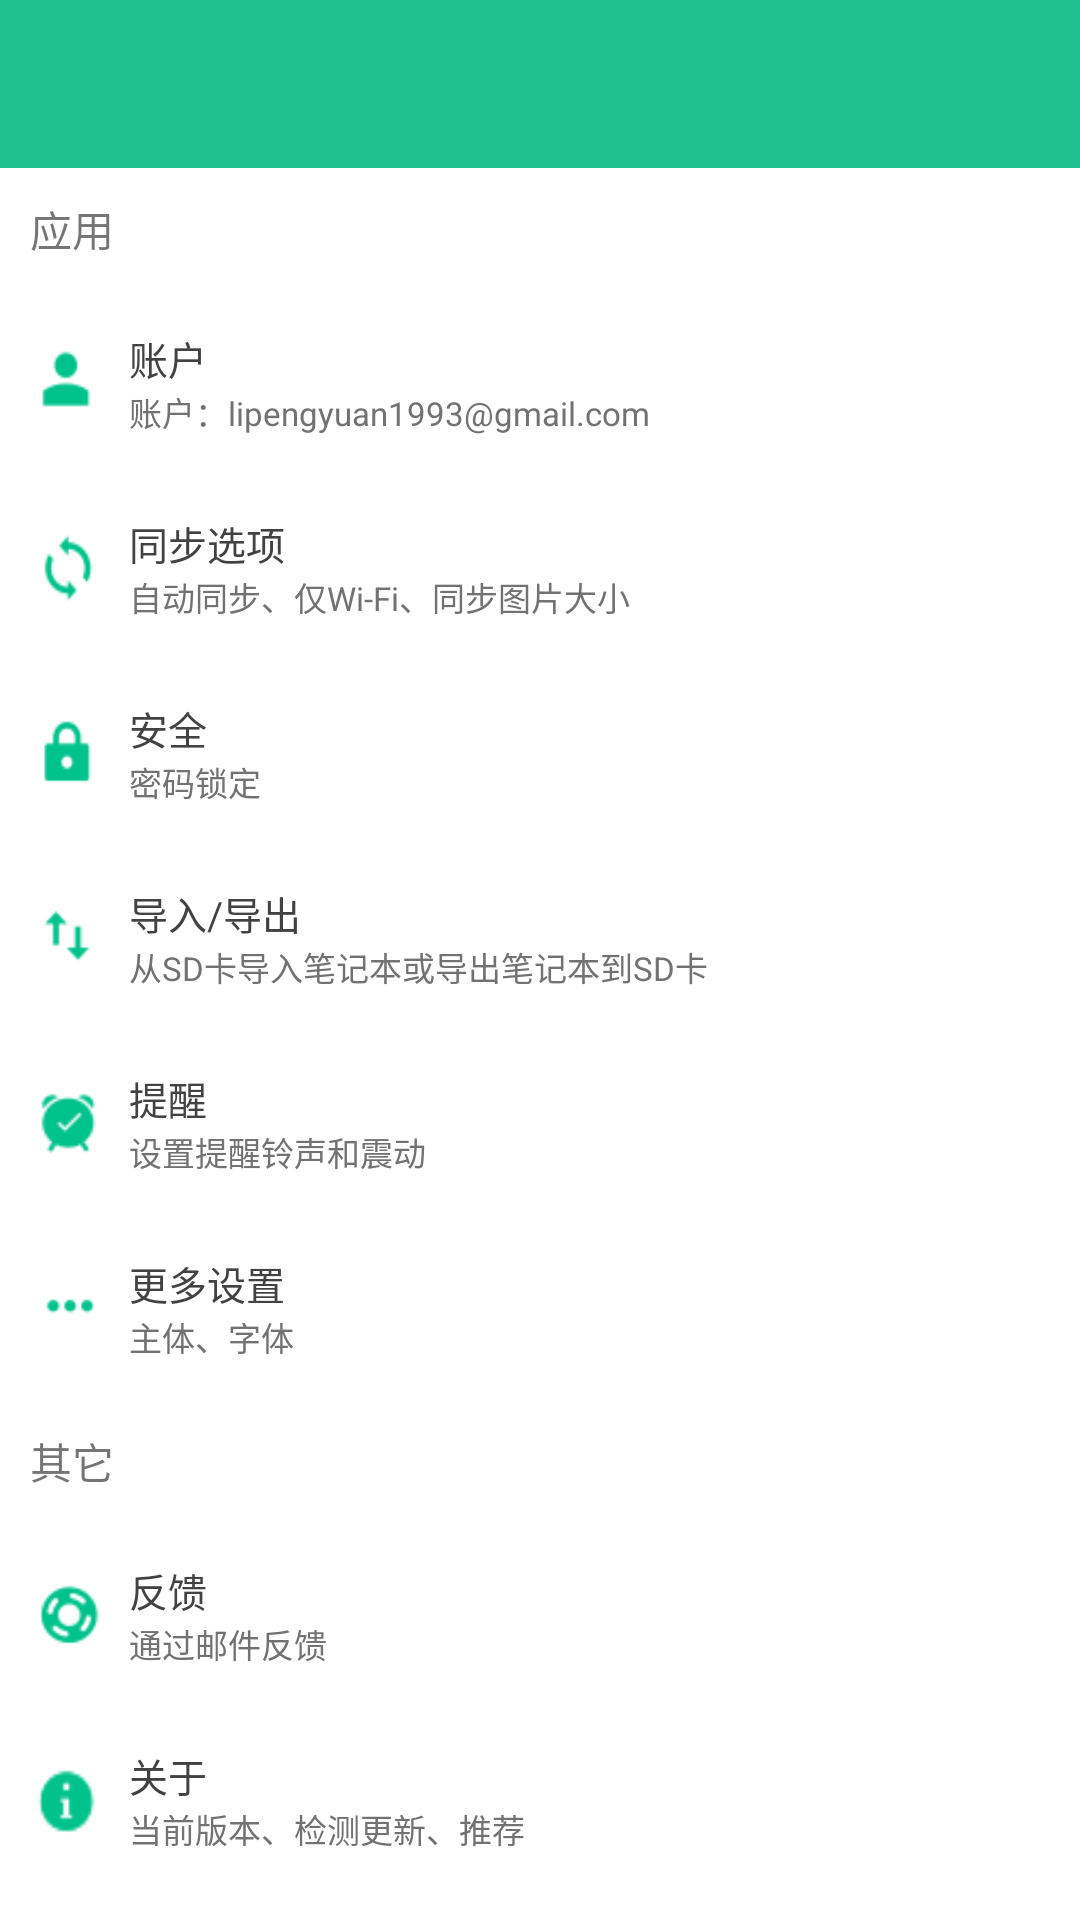

Icons on this 1080x1920 Android screen, each with its box as (x1, y1, x2, y2):
setting pwd lock: (44, 721, 91, 782)
